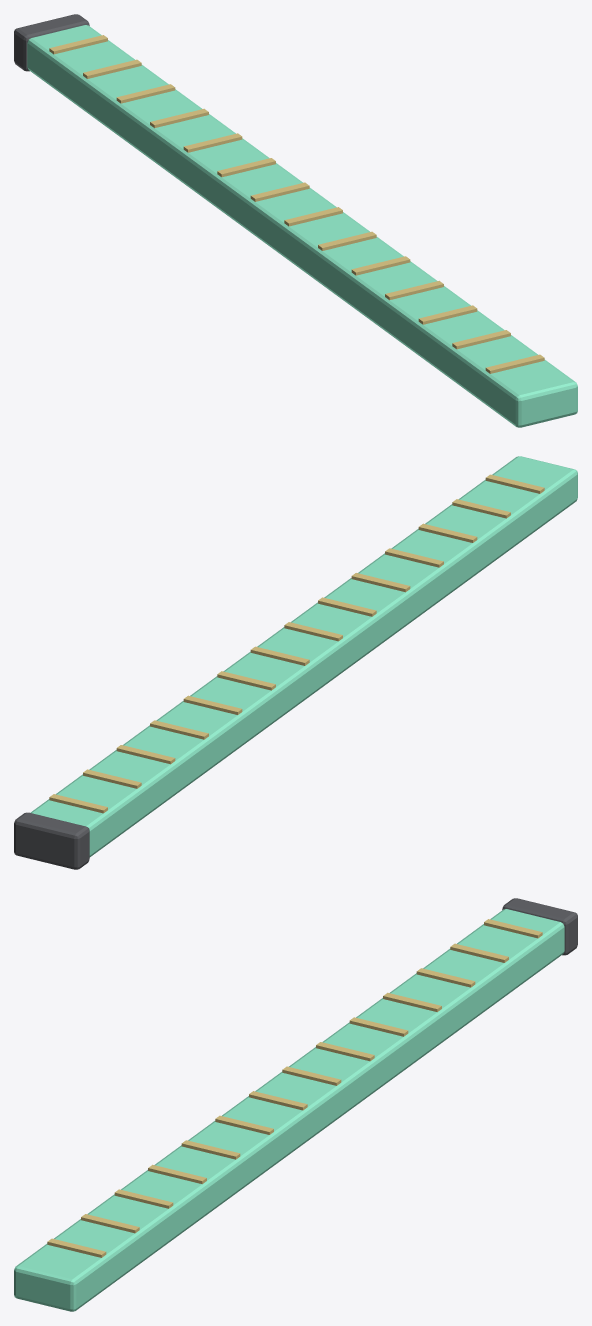
Rendered from att_ext_mag_top.fbx.
3 views of the same model, one above another, from view 1: azimuth 30°, elevation 25°; view 2: azimuth 150°, elevation 25°; view 3: azimuth 330°, elevation 25° (orthographic).
Visible parts, largest first — view 1: att_ext_mag_top; view 2: att_ext_mag_top; view 3: att_ext_mag_top.
Part boxes in pixels (<box>): att_ext_mag_top: <box>14,14,577,427</box>; att_ext_mag_top: <box>14,456,577,869</box>; att_ext_mag_top: <box>14,898,577,1311</box>.
Bounding box in the file's own units: 0.034 × 0.0185 × 0.45.
